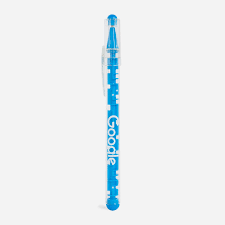qillqana: (98, 8, 126, 212)
